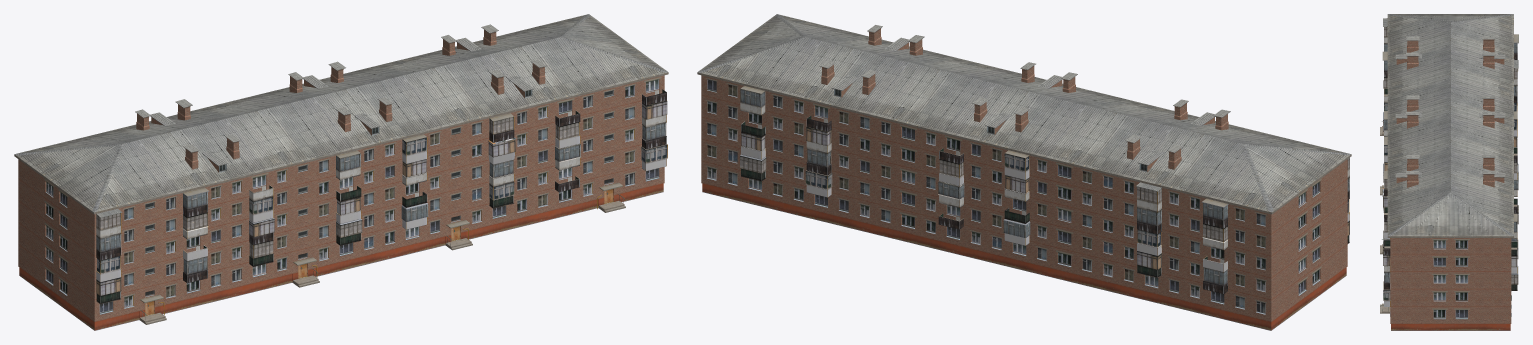
Rendered from dom_02.glb.
The picture shows the model from 3 angles, left to right: view 1: azimuth 30°, elevation 25°; view 2: azimuth 150°, elevation 25°; view 3: azimuth 270°, elevation 25°; orthographic projection. The views are drawn at different scales.
Visible parts, largest first — view 1: model_8; view 2: model_8; view 3: model_8.
Part boxes in pixels (x1,y1,x2,y2): model_8: [14, 14, 668, 330]; model_8: [697, 14, 1351, 330]; model_8: [1380, 14, 1518, 330].
Size of the model in its own units: 235 by 57.02 by 62.09.
Materials: 2 (2 with a texture image).
